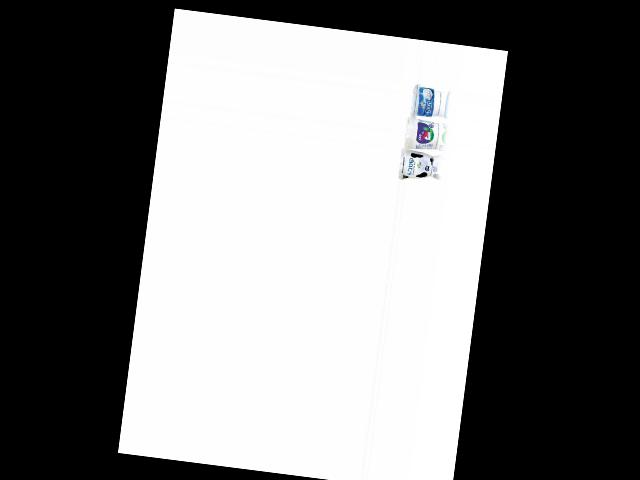cotage: (407, 83, 446, 121)
